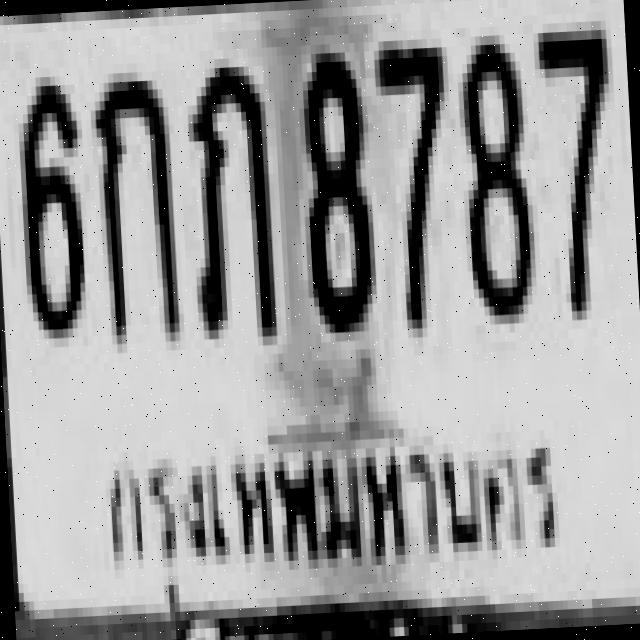10GorGai: (88, 62, 175, 336)
41PhorSamPhao: (180, 58, 272, 332)
6: (11, 67, 83, 331)
7: (533, 21, 616, 313), (374, 34, 452, 326)
8: (456, 26, 534, 316), (296, 43, 374, 325)
Bangkok: (94, 413, 568, 616)
